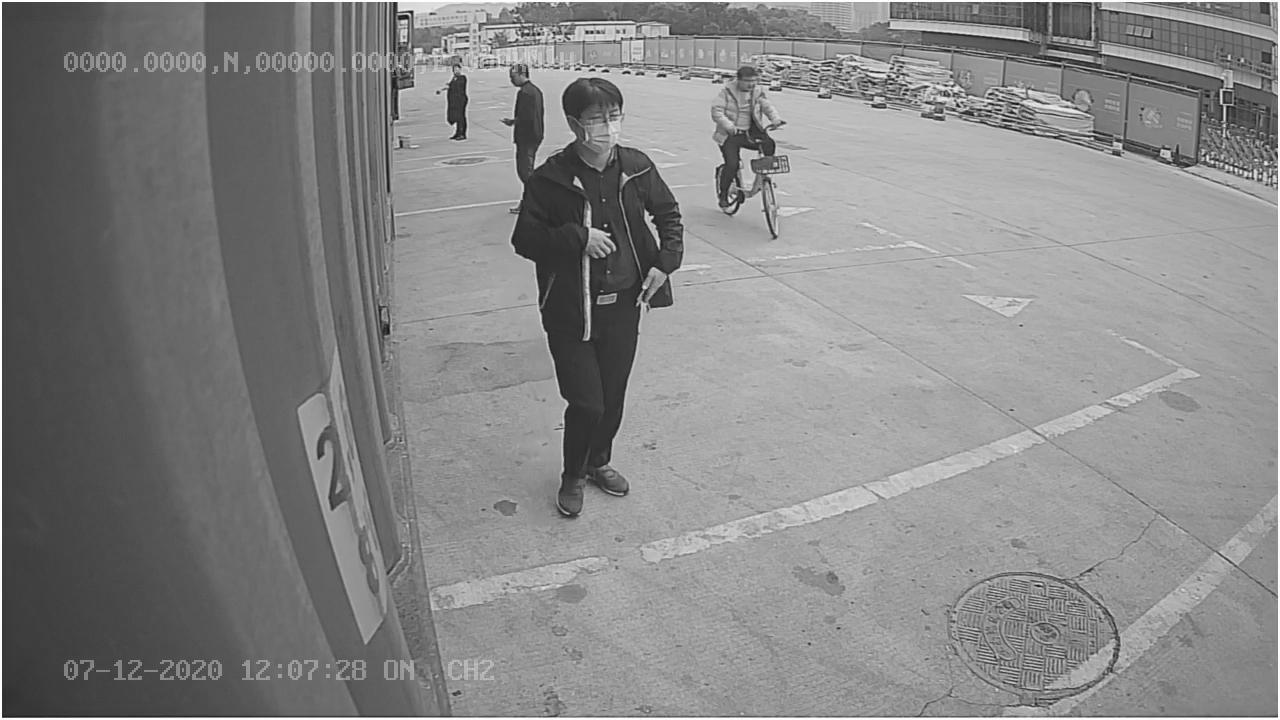person: (523, 79, 685, 524)
